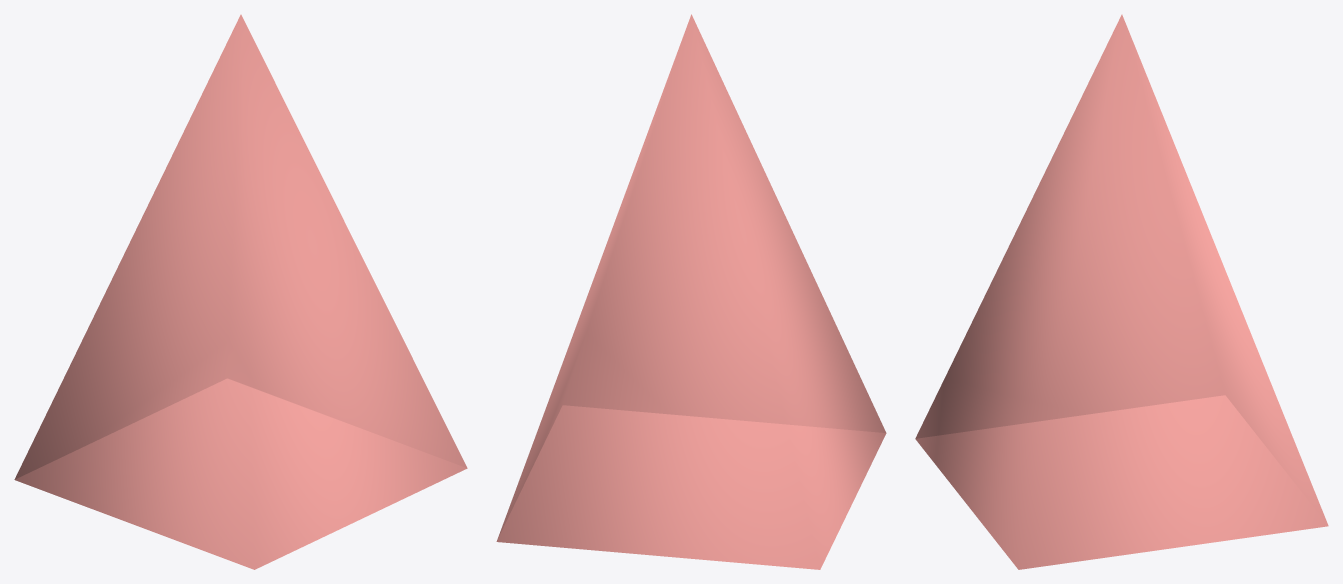
3 renders of one model, left to right at view 1: azimuth 30°, elevation 25°; view 2: azimuth 150°, elevation 25°; view 3: azimuth 270°, elevation 25°, orthographic. The views are drawn at different scales.
Bounding box in the file's own units: 4 × 5 × 4.
